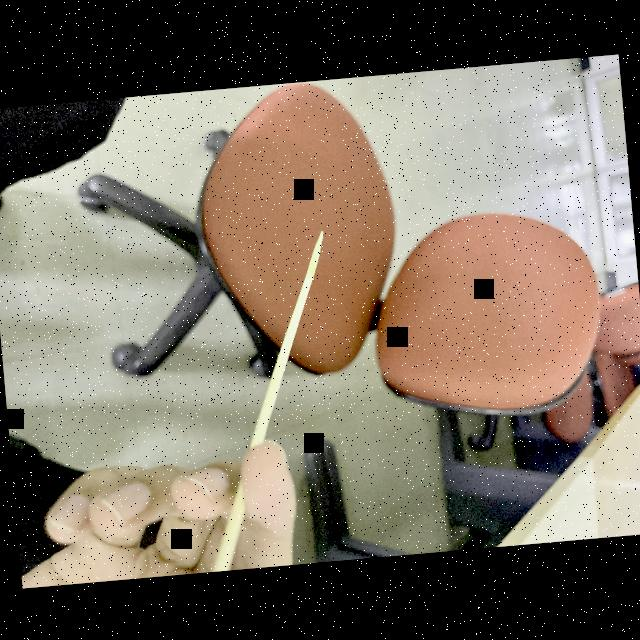stick: (182, 230, 350, 570)
